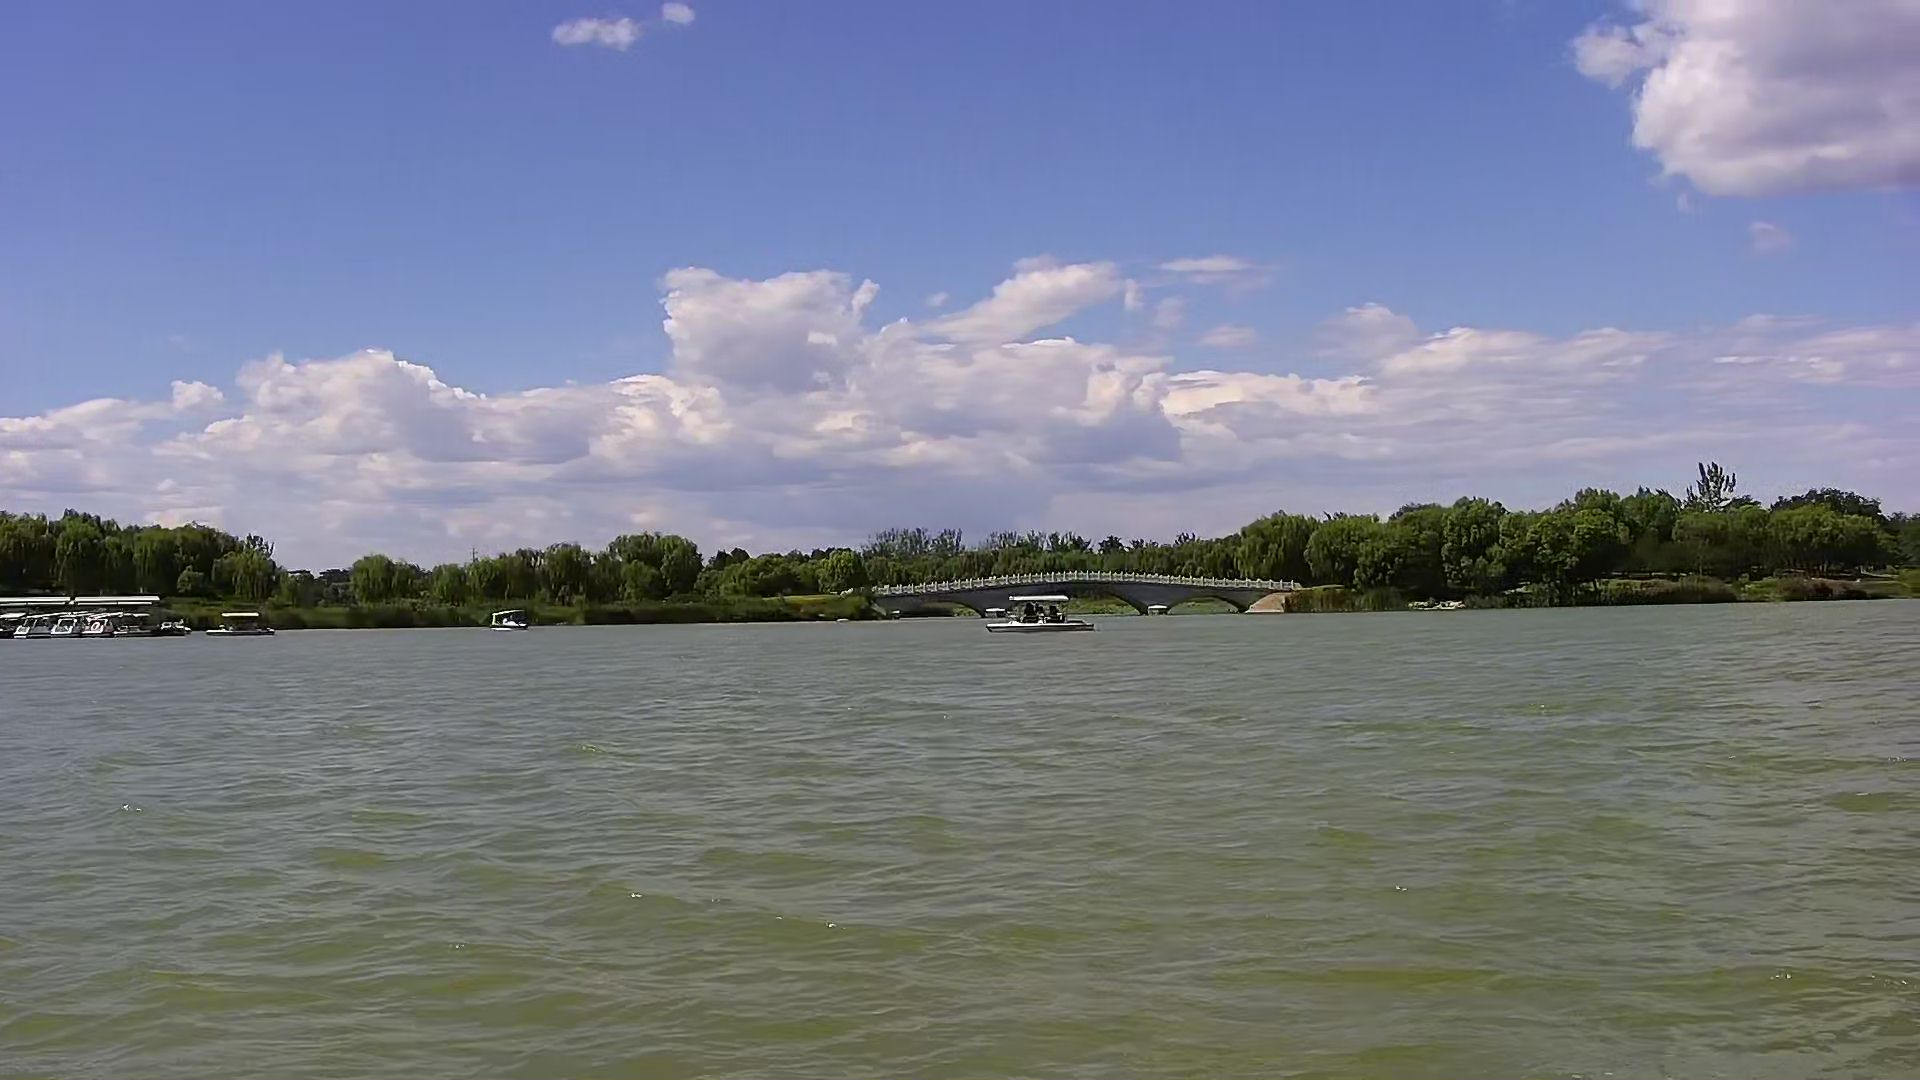boat: (992, 593, 1102, 650), (481, 596, 537, 642), (207, 612, 287, 640)
bridge: (861, 568, 1319, 616)
